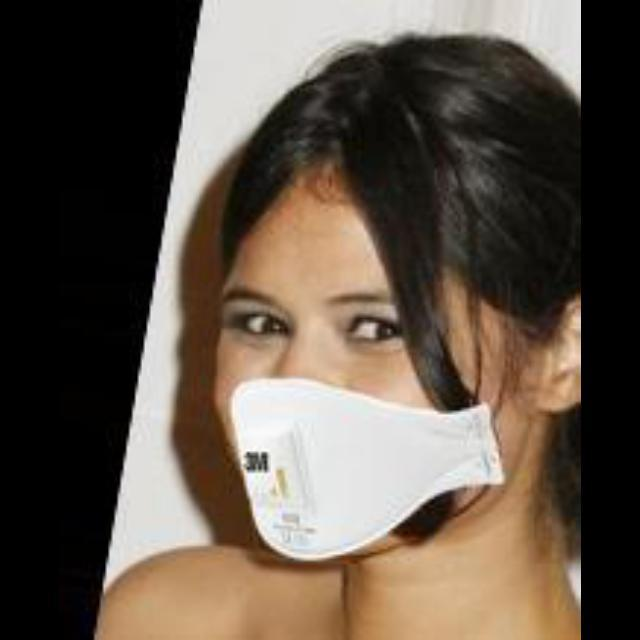suspicion: (208, 140, 548, 560)
